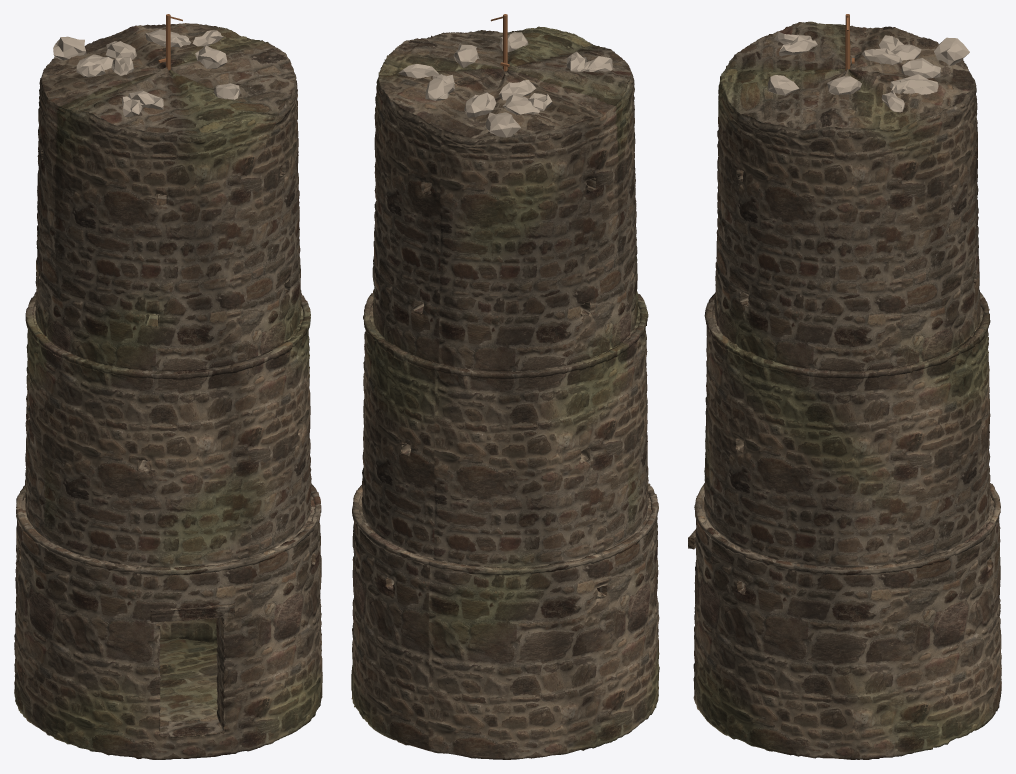
File: windmill_today.glb
3 views of the same model, side by side, from view 1: azimuth 30°, elevation 25°; view 2: azimuth 150°, elevation 25°; view 3: azimuth 270°, elevation 25° (orthographic).
Visible parts, largest first — view 1: Tower_HD.001, Tower_Bands_HD.001, Crown_Stones_Today.001, Door_Lintel_HD.001; view 2: Tower_HD.001, Tower_Bands_HD.001, Crown_Stones_Today.001; view 3: Tower_HD.001, Tower_Bands_HD.001, Crown_Stones_Today.001.
Part boxes in pixels (<box>): Tower_HD.001: <box>14,23,322,759</box>; Tower_Bands_HD.001: <box>16,291,321,575</box>; Crown_Stones_Today.001: <box>53,29,240,116</box>; Door_Lintel_HD.001: <box>150,603,234,622</box>; Tower_HD.001: <box>351,26,659,759</box>; Tower_Bands_HD.001: <box>352,293,658,575</box>; Crown_Stones_Today.001: <box>398,32,612,137</box>; Tower_HD.001: <box>693,21,1001,759</box>; Tower_Bands_HD.001: <box>694,292,1000,575</box>; Crown_Stones_Today.001: <box>768,32,969,112</box>.
Size of the model in its own units: 5.54 by 13.53 by 5.64.
Materials: 3 (1 with a texture image).
